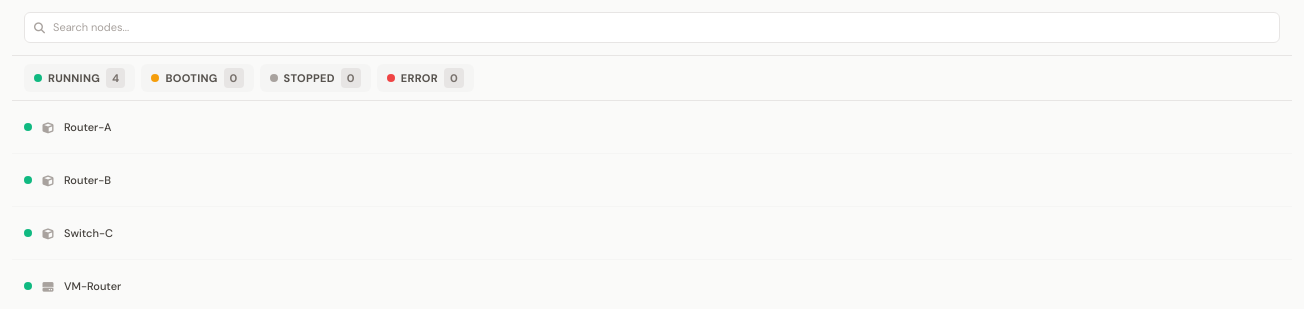
Test: NodeListPanel › Filtering › shows "Clear filters" button when filter produces no results
This screenshot has width=1304, height=309.
Click the text "Error".
click(419, 78)  # box x1=401 y1=70 x2=438 y2=86
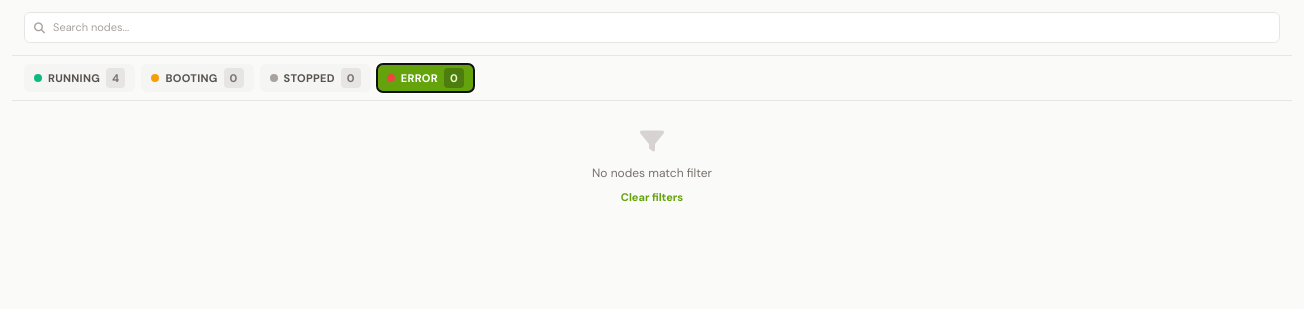
Expected: the text "No nodes match filter" is shown, x1=592 y1=165 x2=712 y2=181
Expected: the button "Clear filters" is shown, x1=621 y1=189 x2=683 y2=206
